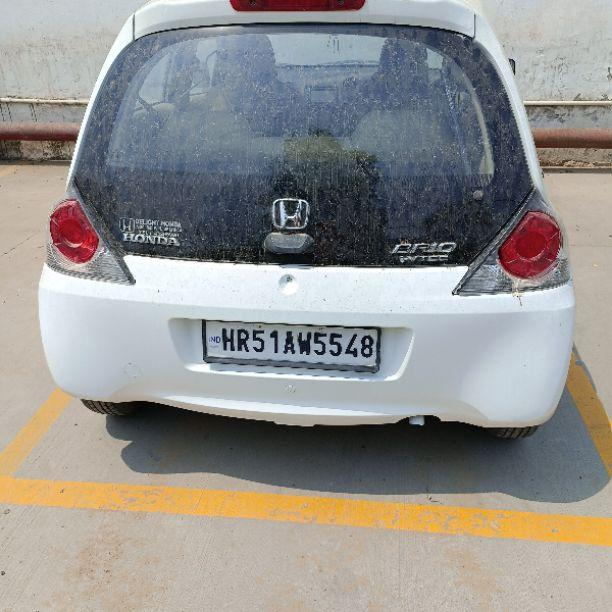license_plate: (200, 319, 381, 372)
